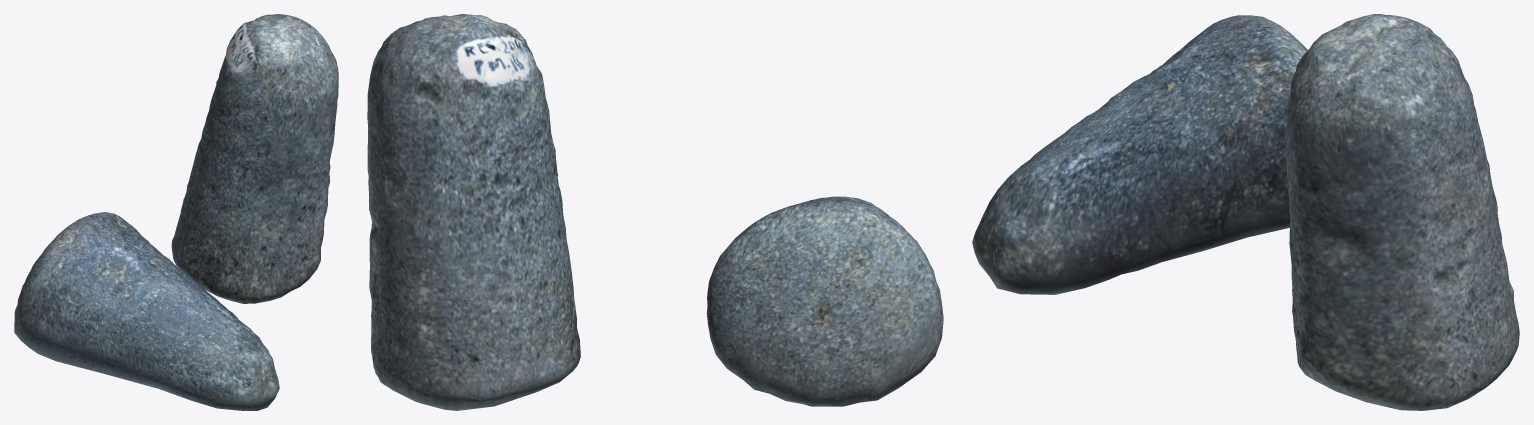
Rendered from PIEZA14.obj.
3 renders of one model, left to right at view 1: azimuth 30°, elevation 25°; view 2: azimuth 150°, elevation 25°; view 3: azimuth 270°, elevation 25°, orthographic. The views are drawn at different scales.
Visible parts, largest first — view 1: mmGroup0; view 2: mmGroup0; view 3: mmGroup0.
Part boxes in pixels (box(x1,y1,x2,y2)): mmGroup0: box(14, 14, 338, 410); mmGroup0: box(367, 14, 943, 410); mmGroup0: box(972, 14, 1519, 410).
Bounding box in the file's own units: 0.5212 × 0.3627 × 0.4801.
Materials: 1 (1 with a texture image).
